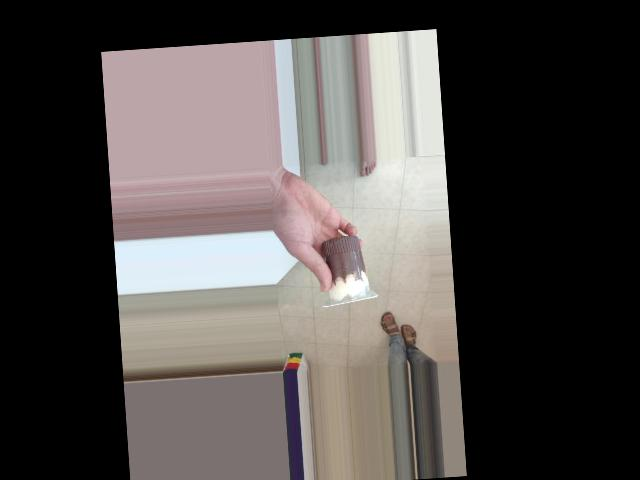milky: (314, 224, 375, 304)
